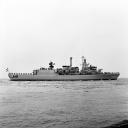Fragata: (6, 52, 122, 83)
